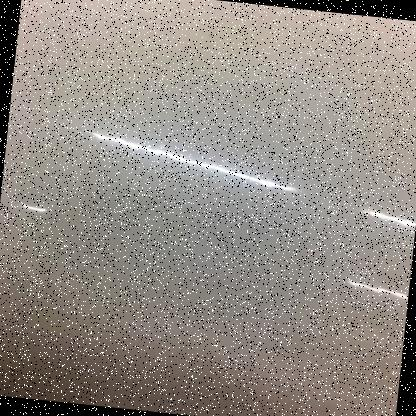Nocrack: (5, 0, 415, 410)
